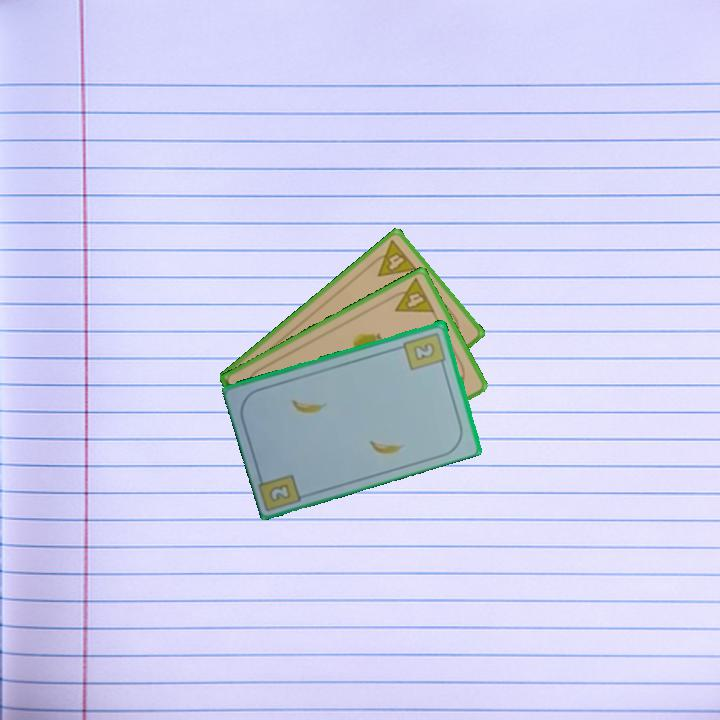2b: (400, 328, 449, 373), (265, 480, 294, 505)
4p: (366, 236, 420, 280), (385, 275, 438, 316)
